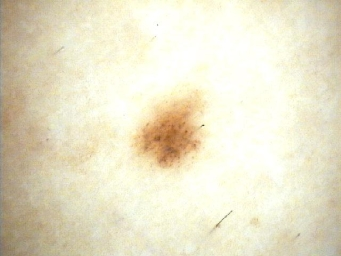melanoma: (134, 92, 206, 167)
